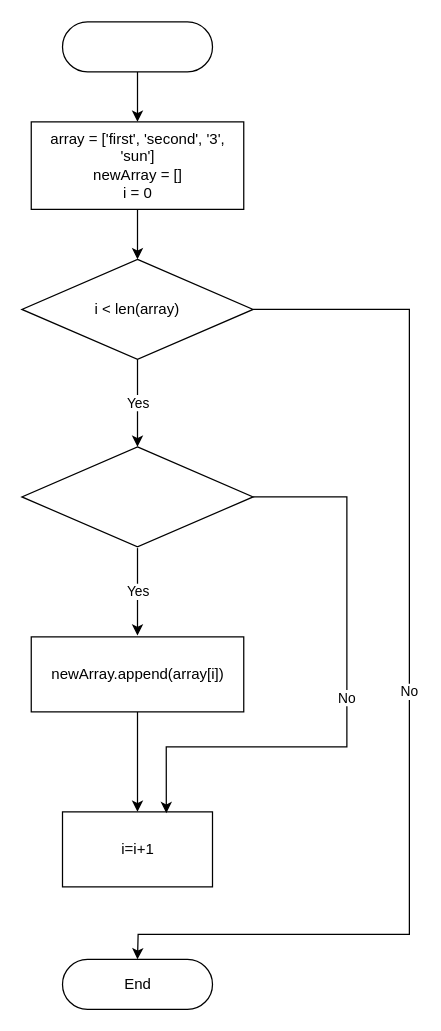
Image size: 441x1031. Some labels were removed from this diagram. Here are the shapes that lost their labels. From the top down, the centre of each, then its label:
At point 136,46: "Start".
At point 137,496: "len(array[i]) <= 3".
